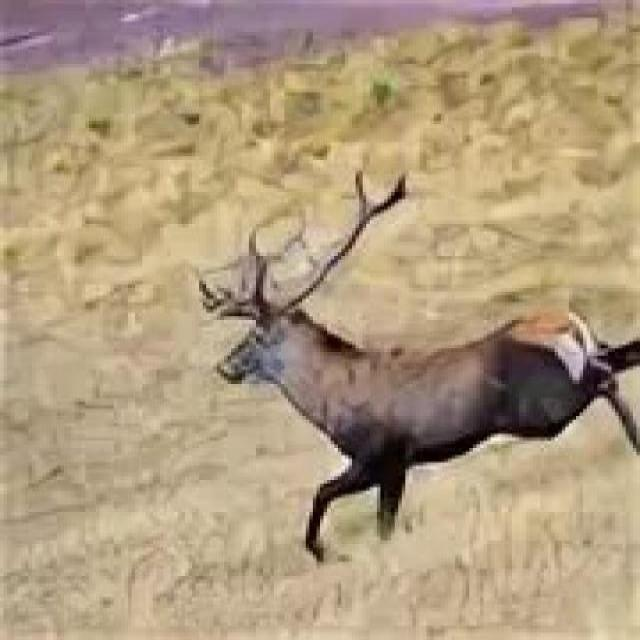deer: (219, 215, 640, 610)
